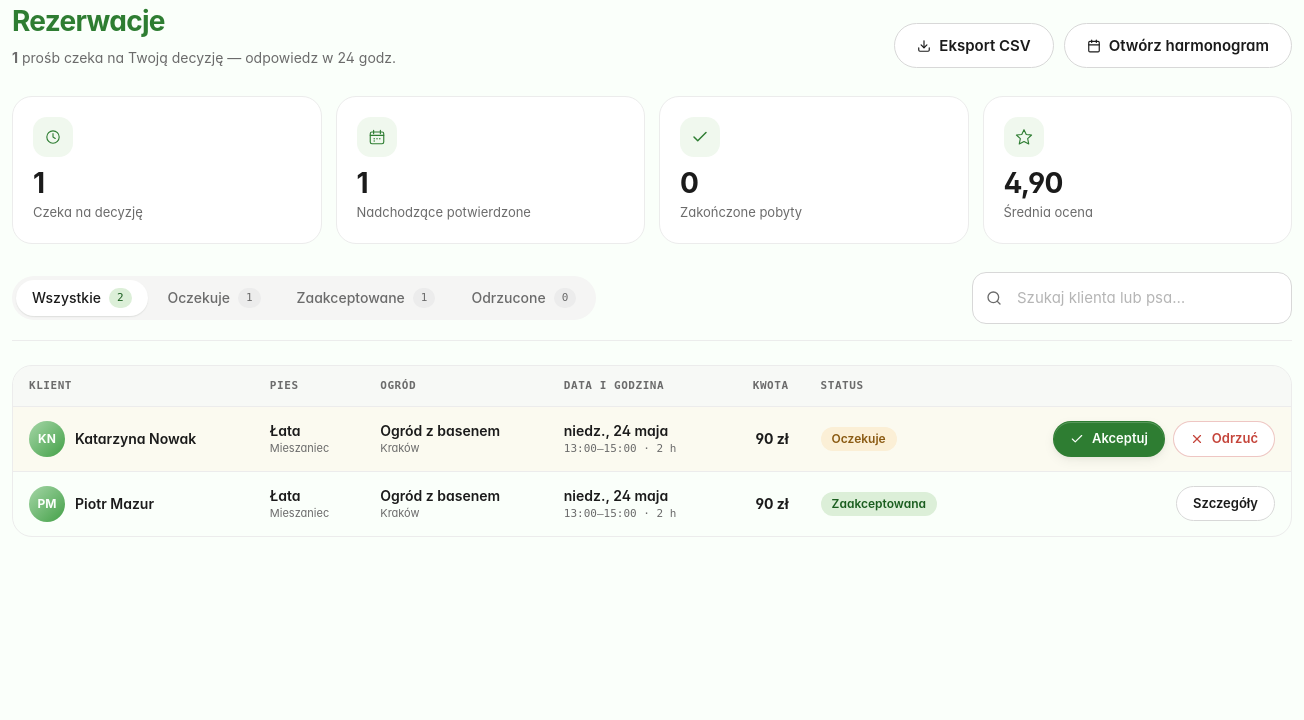
Scenario: host ReservationsPage › filters to the pending tab
The image size is (1304, 720).
Click the tab "Oczekuje 1" at (214, 298), box 152,280 -> 276,316
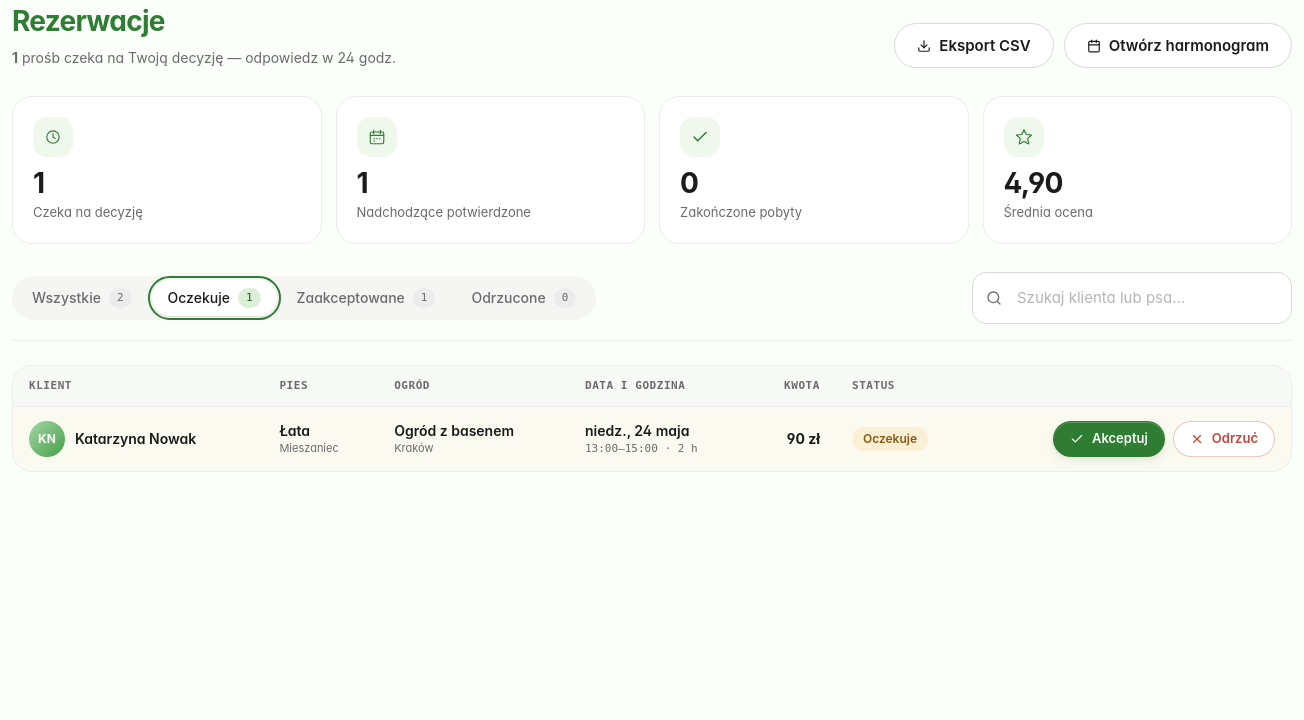
Expected: the text "Katarzyna Nowak" is shown, 75,429 -> 196,449
Expected: the text "Piotr Mazur" is gone
